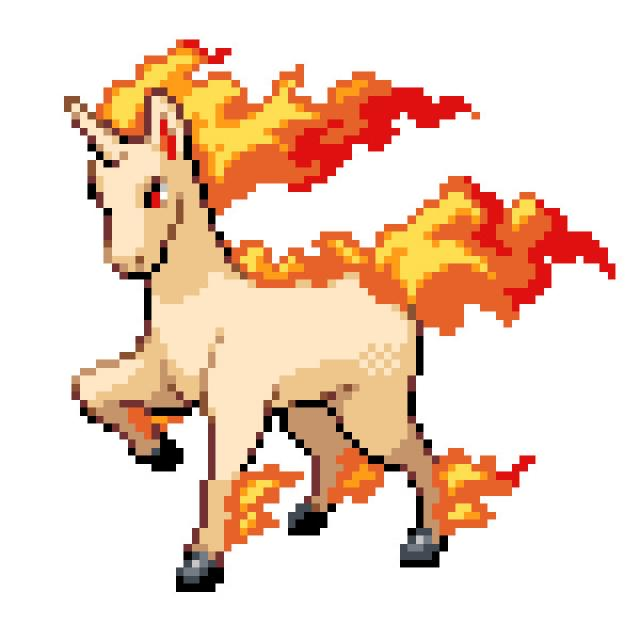Rapidash: (68, 52, 453, 566)
